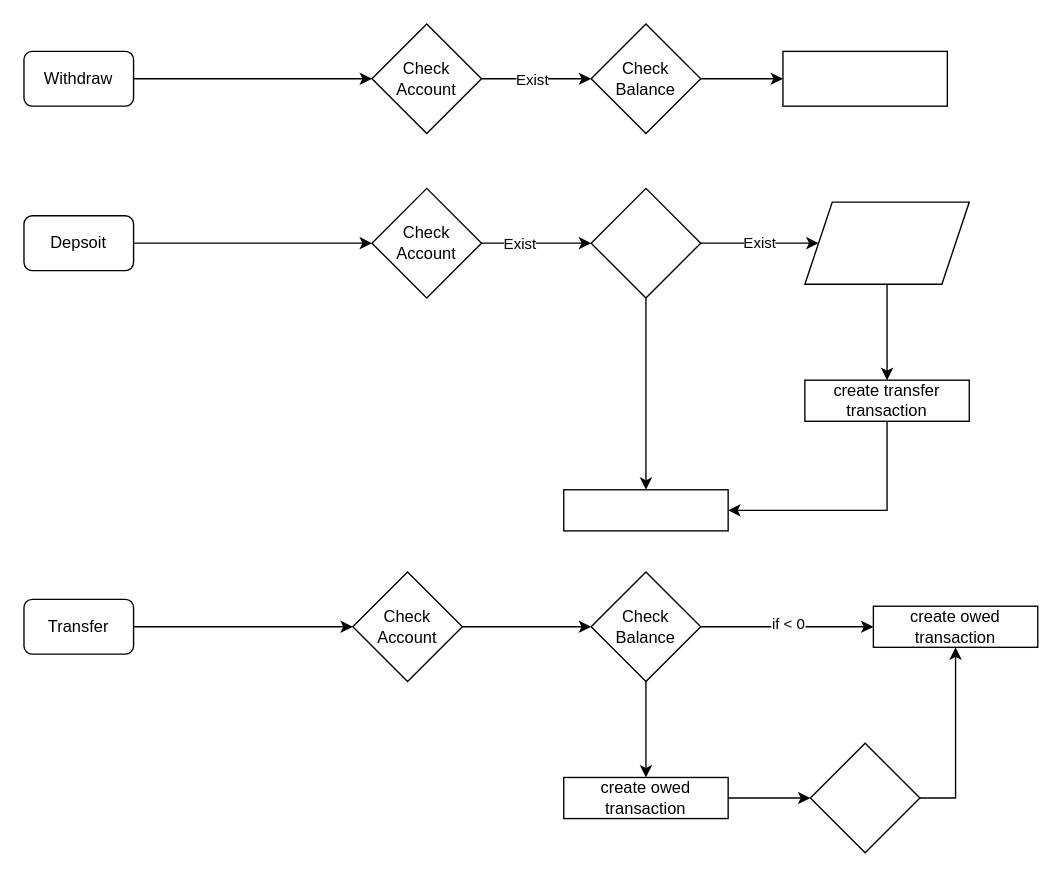
This 1062x877 diagram has some shape labels left out. The shapes that lost their labels are listed below. From the top down, each one's centre as x and y in pixels, then its label:
At pixel 864 78: "create withdraw transactions".
At pixel 645 242: "Check Owed Transaction".
At pixel 886 242: "Get List Owed Transaction".
At pixel 645 509: "create deposit transaction".
At pixel 864 797: "Check Amount > Balance".
